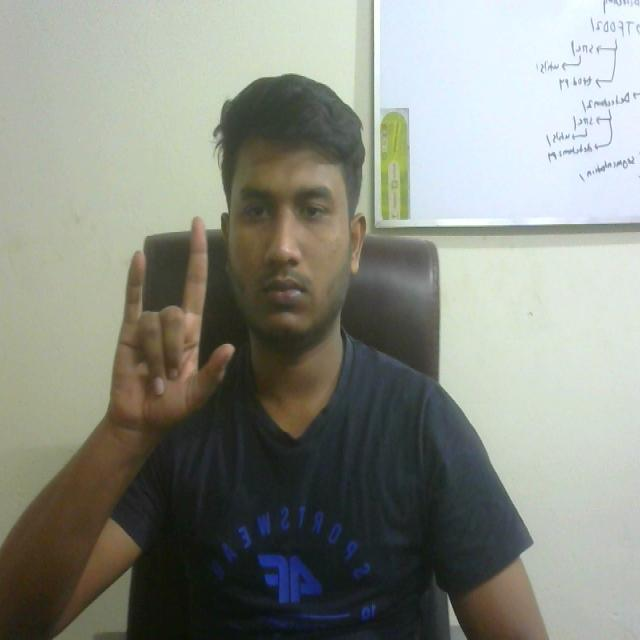B: (83, 199, 245, 456)
